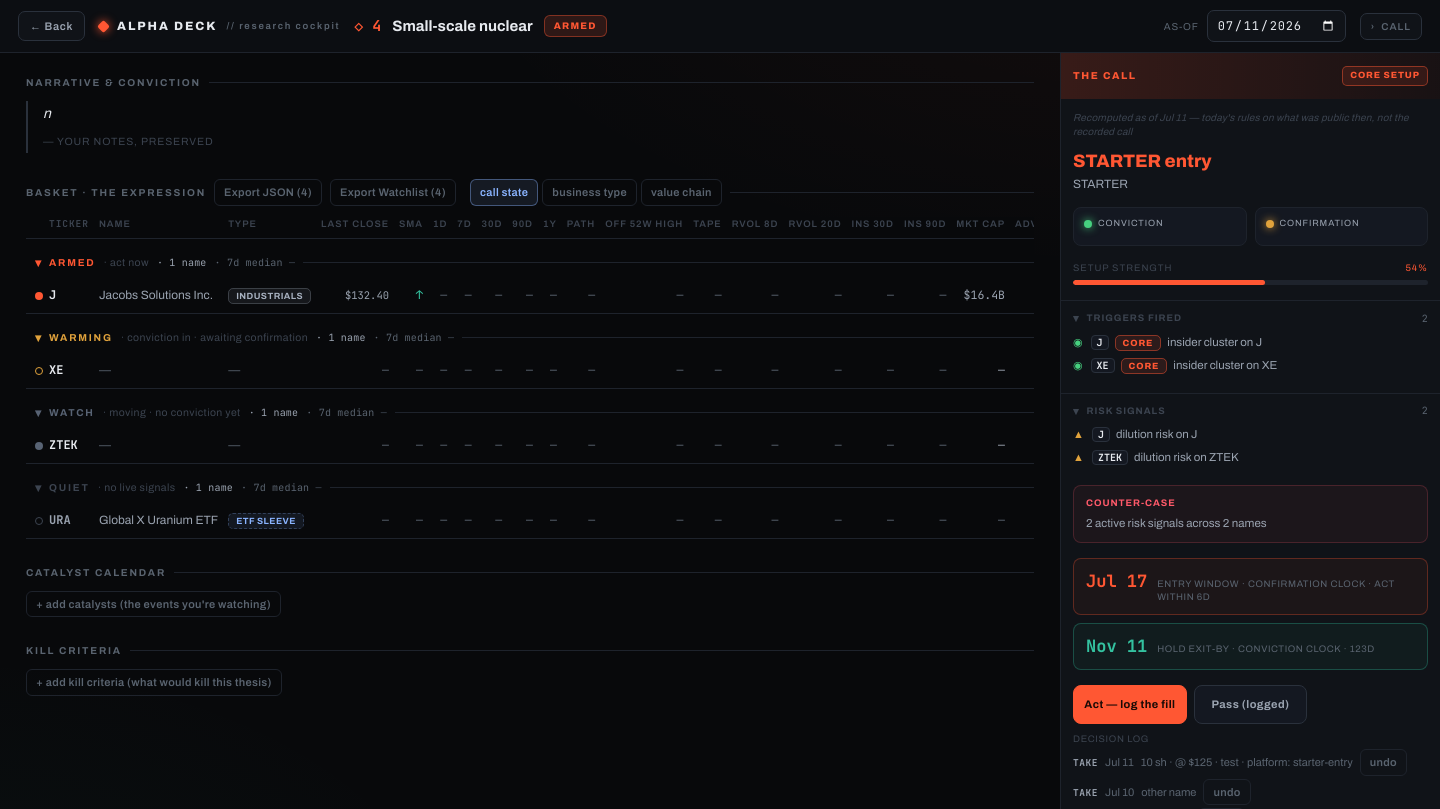
Test: Cockpit — the per-name panel › shows Indicators · this name — readings joined by security_id, gaps and empties said
Click the row that starts with "Jacobs Solutions Inc.": [617, 295] box [26,277,1208,313]
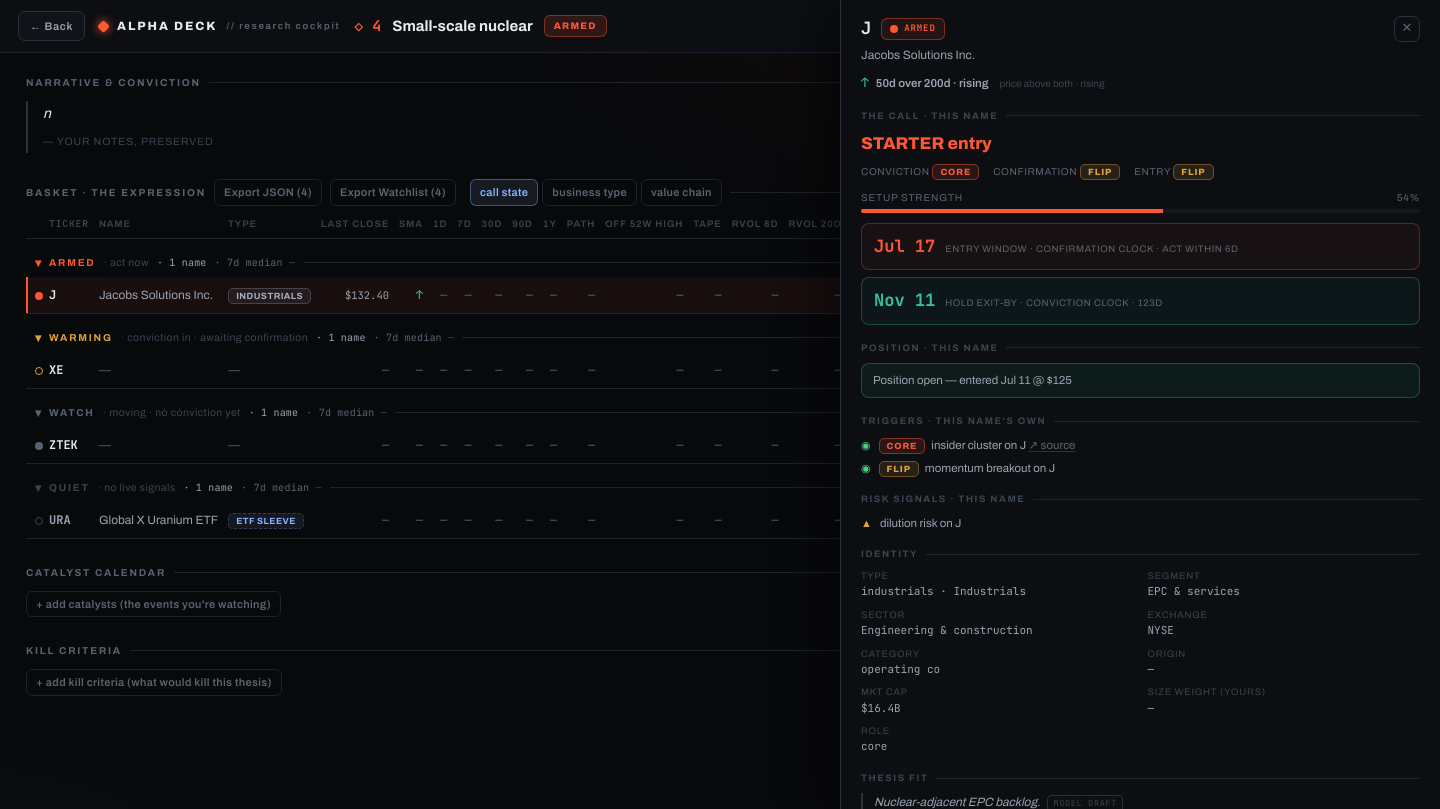
expect the element with class "np-headlines" shows "50d over 200d · rising": met, box [876,77,989,89]
Click the row "ZTEK — — — — — — — — — — — — — — — — — — — —": [617, 445] box [26,427,1208,463]
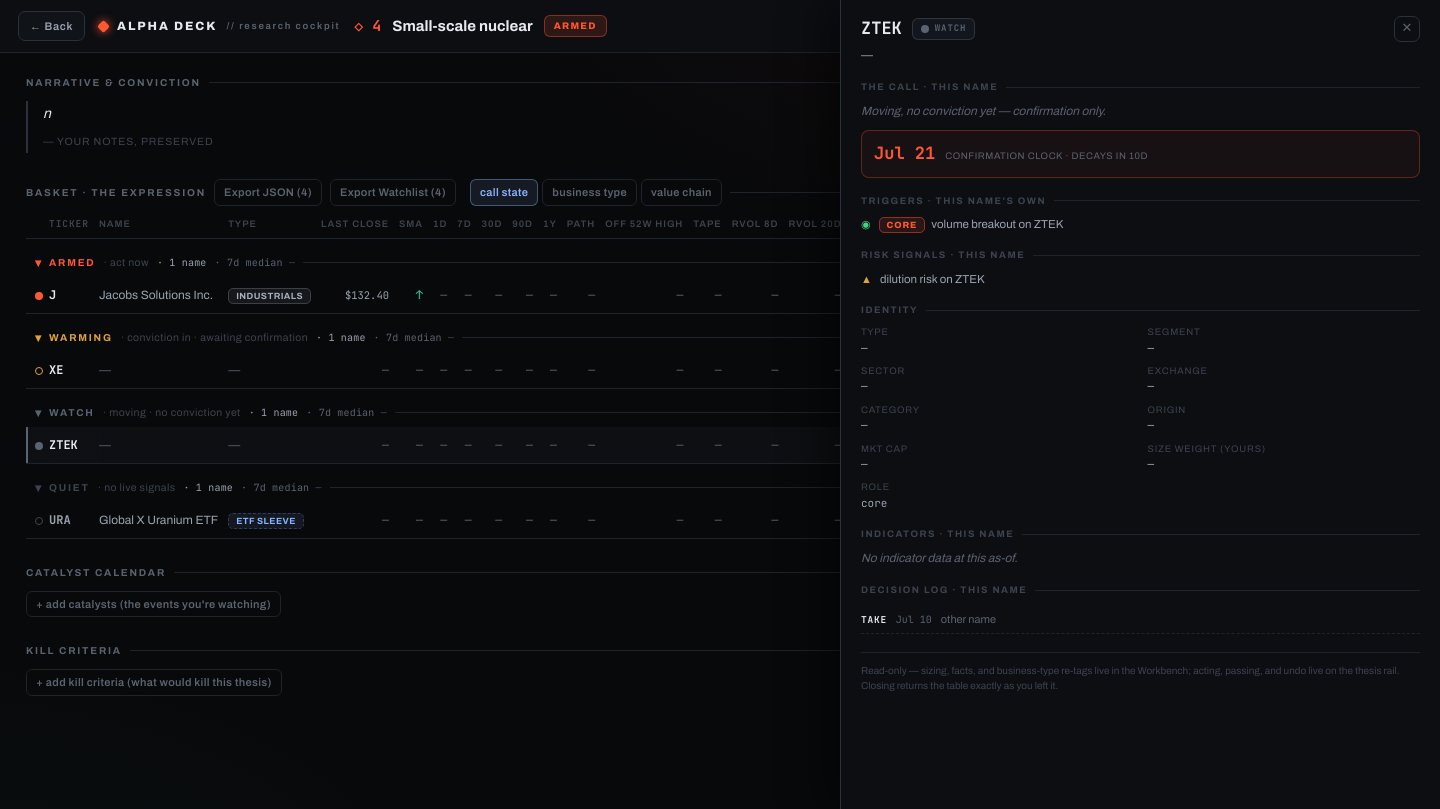
expect the text "No indicator data at this as-of." is shown: met, box [861,551,1018,565]
